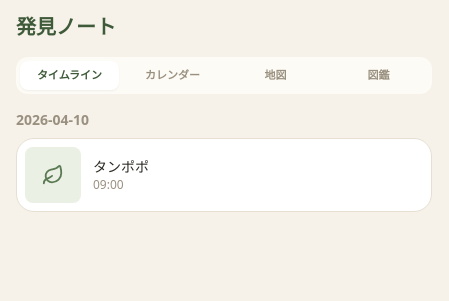
Test: NotebookPage › 地図タブ押下で MapView (地図) を表示する
Click the button "地図". click: click(276, 75)
box: [226,61,325,90]
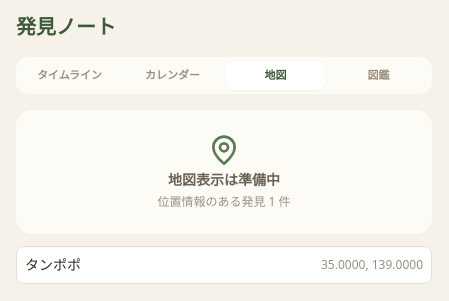
Now the element labelled "地図" is shown, box [16,110,432,284]
